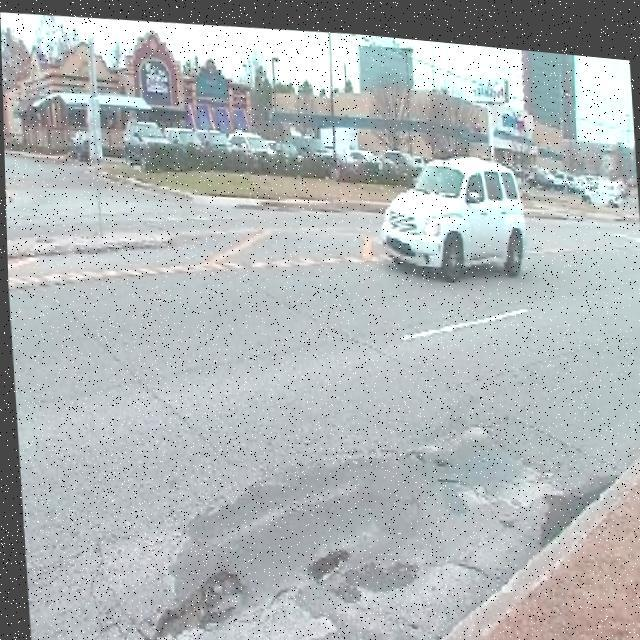pothole: (142, 554, 246, 640)
